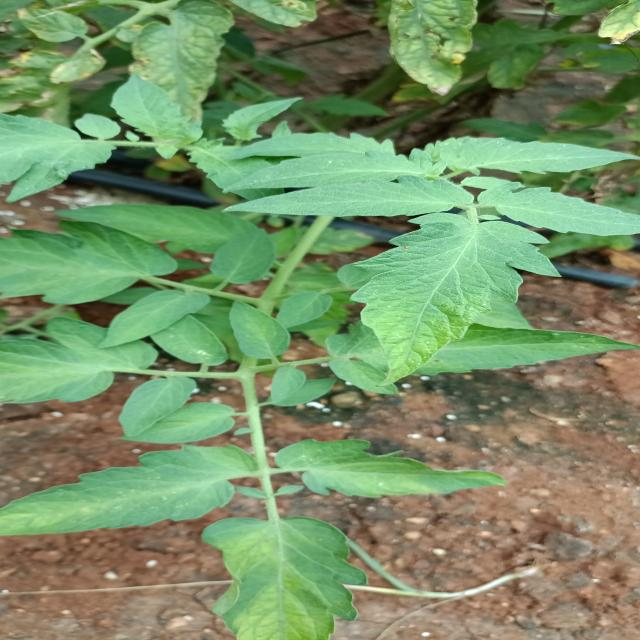Healthy Leaf: (338, 207, 571, 388), (1, 439, 256, 538), (200, 514, 363, 640), (271, 434, 504, 503)
